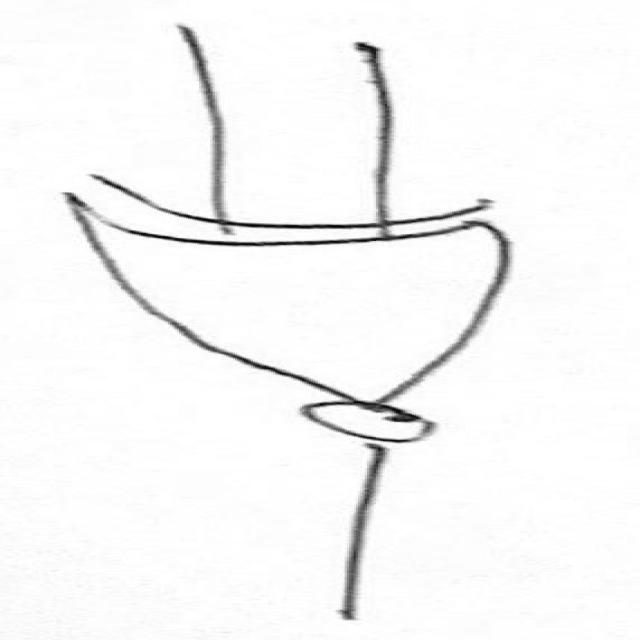XNOR: (22, 153, 590, 456)
